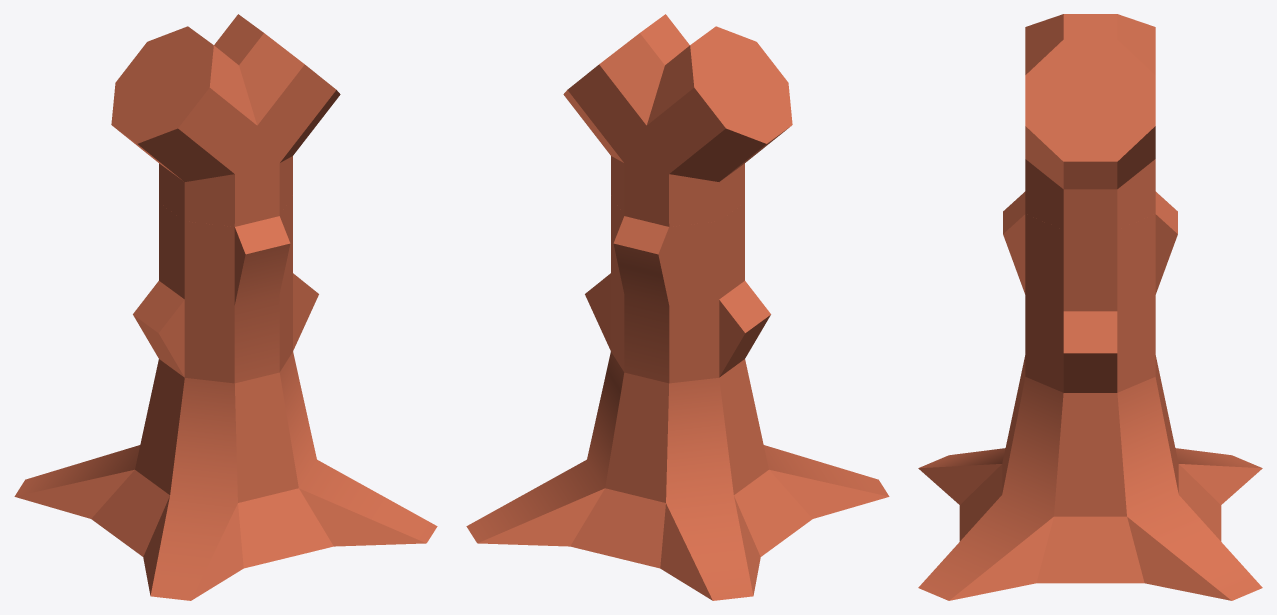
Rendered from deadtree3.fbx.
3 views of the same model, side by side, from view 1: azimuth 30°, elevation 25°; view 2: azimuth 150°, elevation 25°; view 3: azimuth 270°, elevation 25° (orthographic). The views are drawn at different scales.
Parts seen in each view (by area): view 1: trunk_baseDetailed, trunk_split, trunk_detailedB; view 2: trunk_baseDetailed, trunk_split, trunk_detailedB; view 3: trunk_baseDetailed, trunk_split, trunk_detailedB.
Boxes of the visible parts, x1,y1,x2,y2 form: trunk_baseDetailed: (14,352,437,600); trunk_split: (111,14,340,226); trunk_detailedB: (133,195,318,383); trunk_baseDetailed: (466,352,889,600); trunk_split: (563,14,792,226); trunk_detailedB: (585,195,770,383); trunk_baseDetailed: (918,355,1262,600); trunk_split: (1025,14,1155,229); trunk_detailedB: (1003,191,1177,392).
Bounding box in the file's own units: 5.76 × 9.24 × 5.76.
